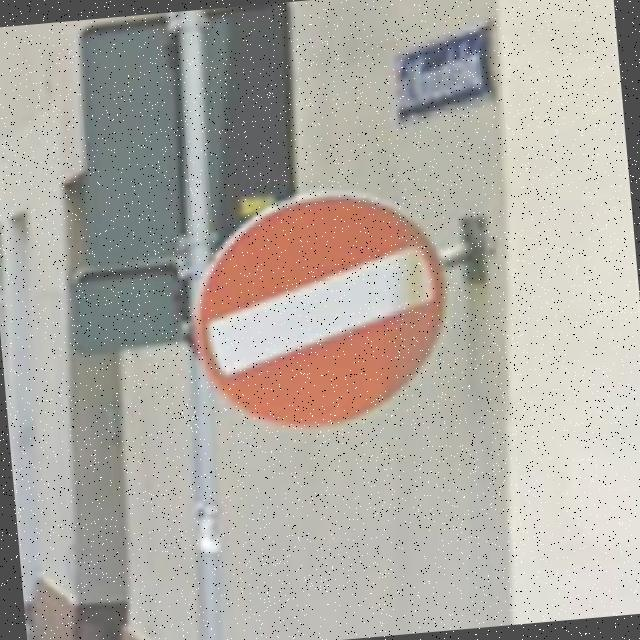Zakaz wjazdu: (177, 182, 458, 440)
